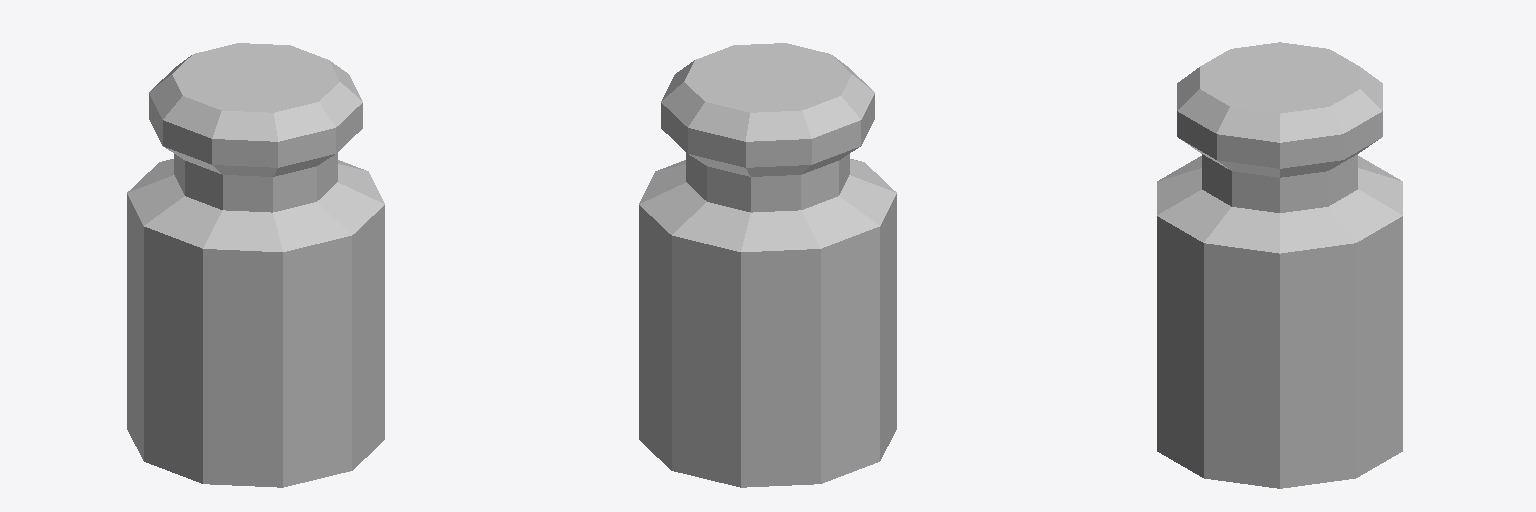
Rendered from Weight.obj.
3 views of the same model, side by side, from view 1: azimuth 30°, elevation 25°; view 2: azimuth 150°, elevation 25°; view 3: azimuth 270°, elevation 25° (orthographic).
Visible parts, largest first — view 1: pCylinder1; view 2: pCylinder1; view 3: pCylinder1.
Boxes of the visible parts, x1=… form: pCylinder1: x1=127, y1=43, x2=384, y2=487; pCylinder1: x1=639, y1=43, x2=896, y2=487; pCylinder1: x1=1157, y1=42, x2=1402, y2=488.
Bounding box in the file's own units: 0.6743 × 1.02 × 0.6413.